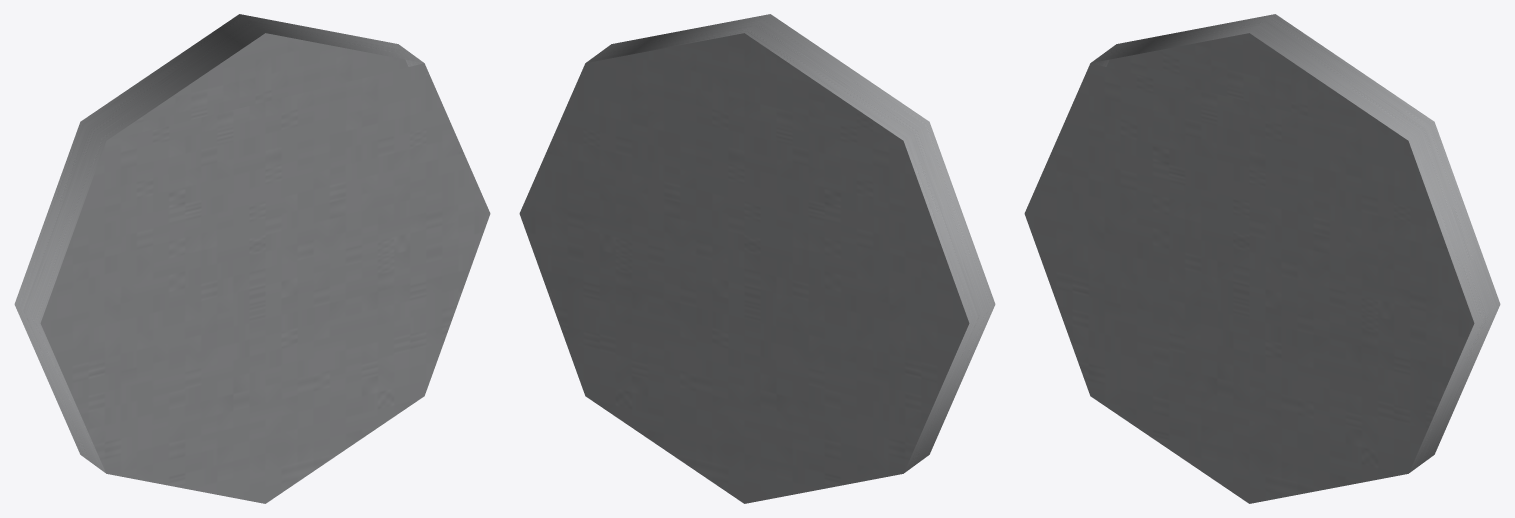
The model's file is front2.obj.
The picture shows the model from 3 angles, left to right: view 1: azimuth 30°, elevation 25°; view 2: azimuth 150°, elevation 25°; view 3: azimuth 330°, elevation 25°; orthographic projection.
Visible parts, largest first — view 1: toon_train.004_toon_train.006; view 2: toon_train.004_toon_train.006; view 3: toon_train.004_toon_train.006.
Part boxes in pixels (x1,y1,x2,y2): toon_train.004_toon_train.006: (14,14,490,503); toon_train.004_toon_train.006: (519,14,995,503); toon_train.004_toon_train.006: (1024,14,1500,503).
Bounding box in the file's own units: 1.12 × 1.12 × 0.1126.
1 material, 1 textured.
